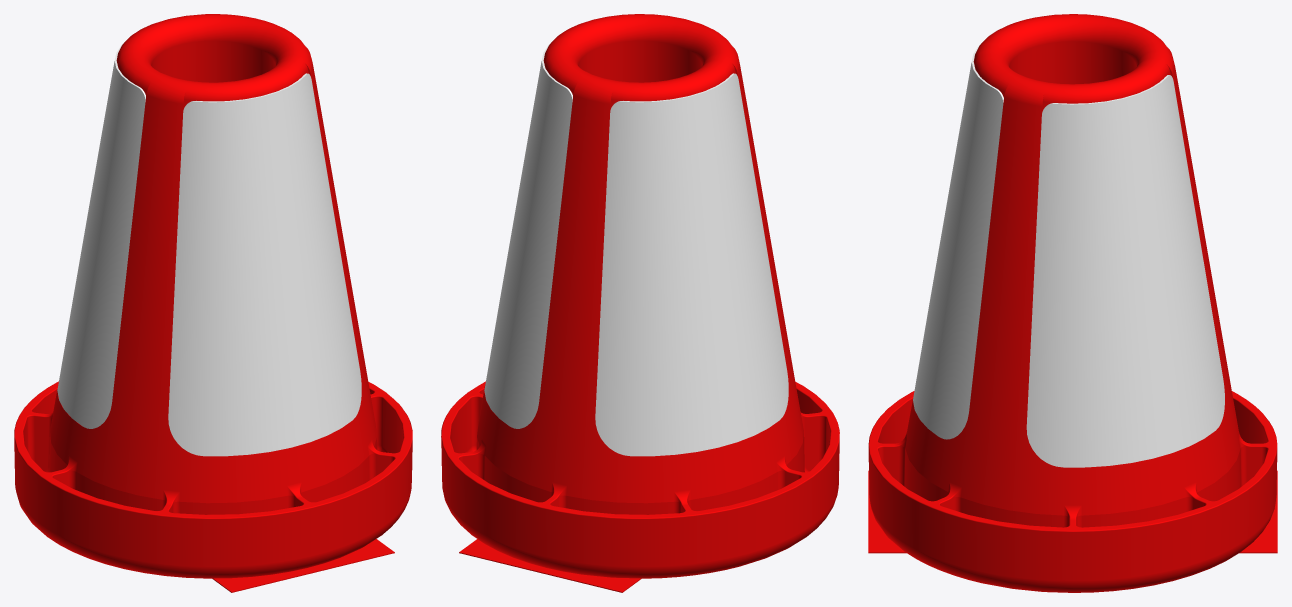
File: red-cone-sticker.fbx
The picture shows the model from 3 angles, left to right: view 1: azimuth 30°, elevation 25°; view 2: azimuth 150°, elevation 25°; view 3: azimuth 270°, elevation 25°; orthographic projection. The views are drawn at different scales.
Parts seen in each view (by area): view 1: Body1 (×4); view 2: Body1 (×4); view 3: Body1 (×4).
Boxes of the visible parts, x1,y1,x2,y2 form: Body1 (×4): (14, 14, 412, 592); Body1 (×4): (441, 14, 839, 592); Body1 (×4): (868, 14, 1277, 592).
Size of the model in its own units: 4 by 5 by 4.
